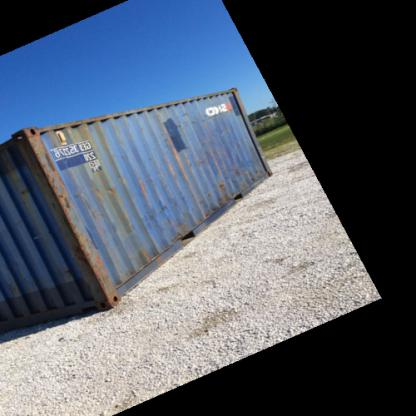Damage: (24, 137, 79, 222), (70, 237, 114, 303), (152, 193, 185, 237), (170, 112, 225, 127), (242, 155, 268, 182), (90, 180, 125, 196), (212, 178, 235, 202), (191, 143, 213, 166), (131, 242, 150, 266)
